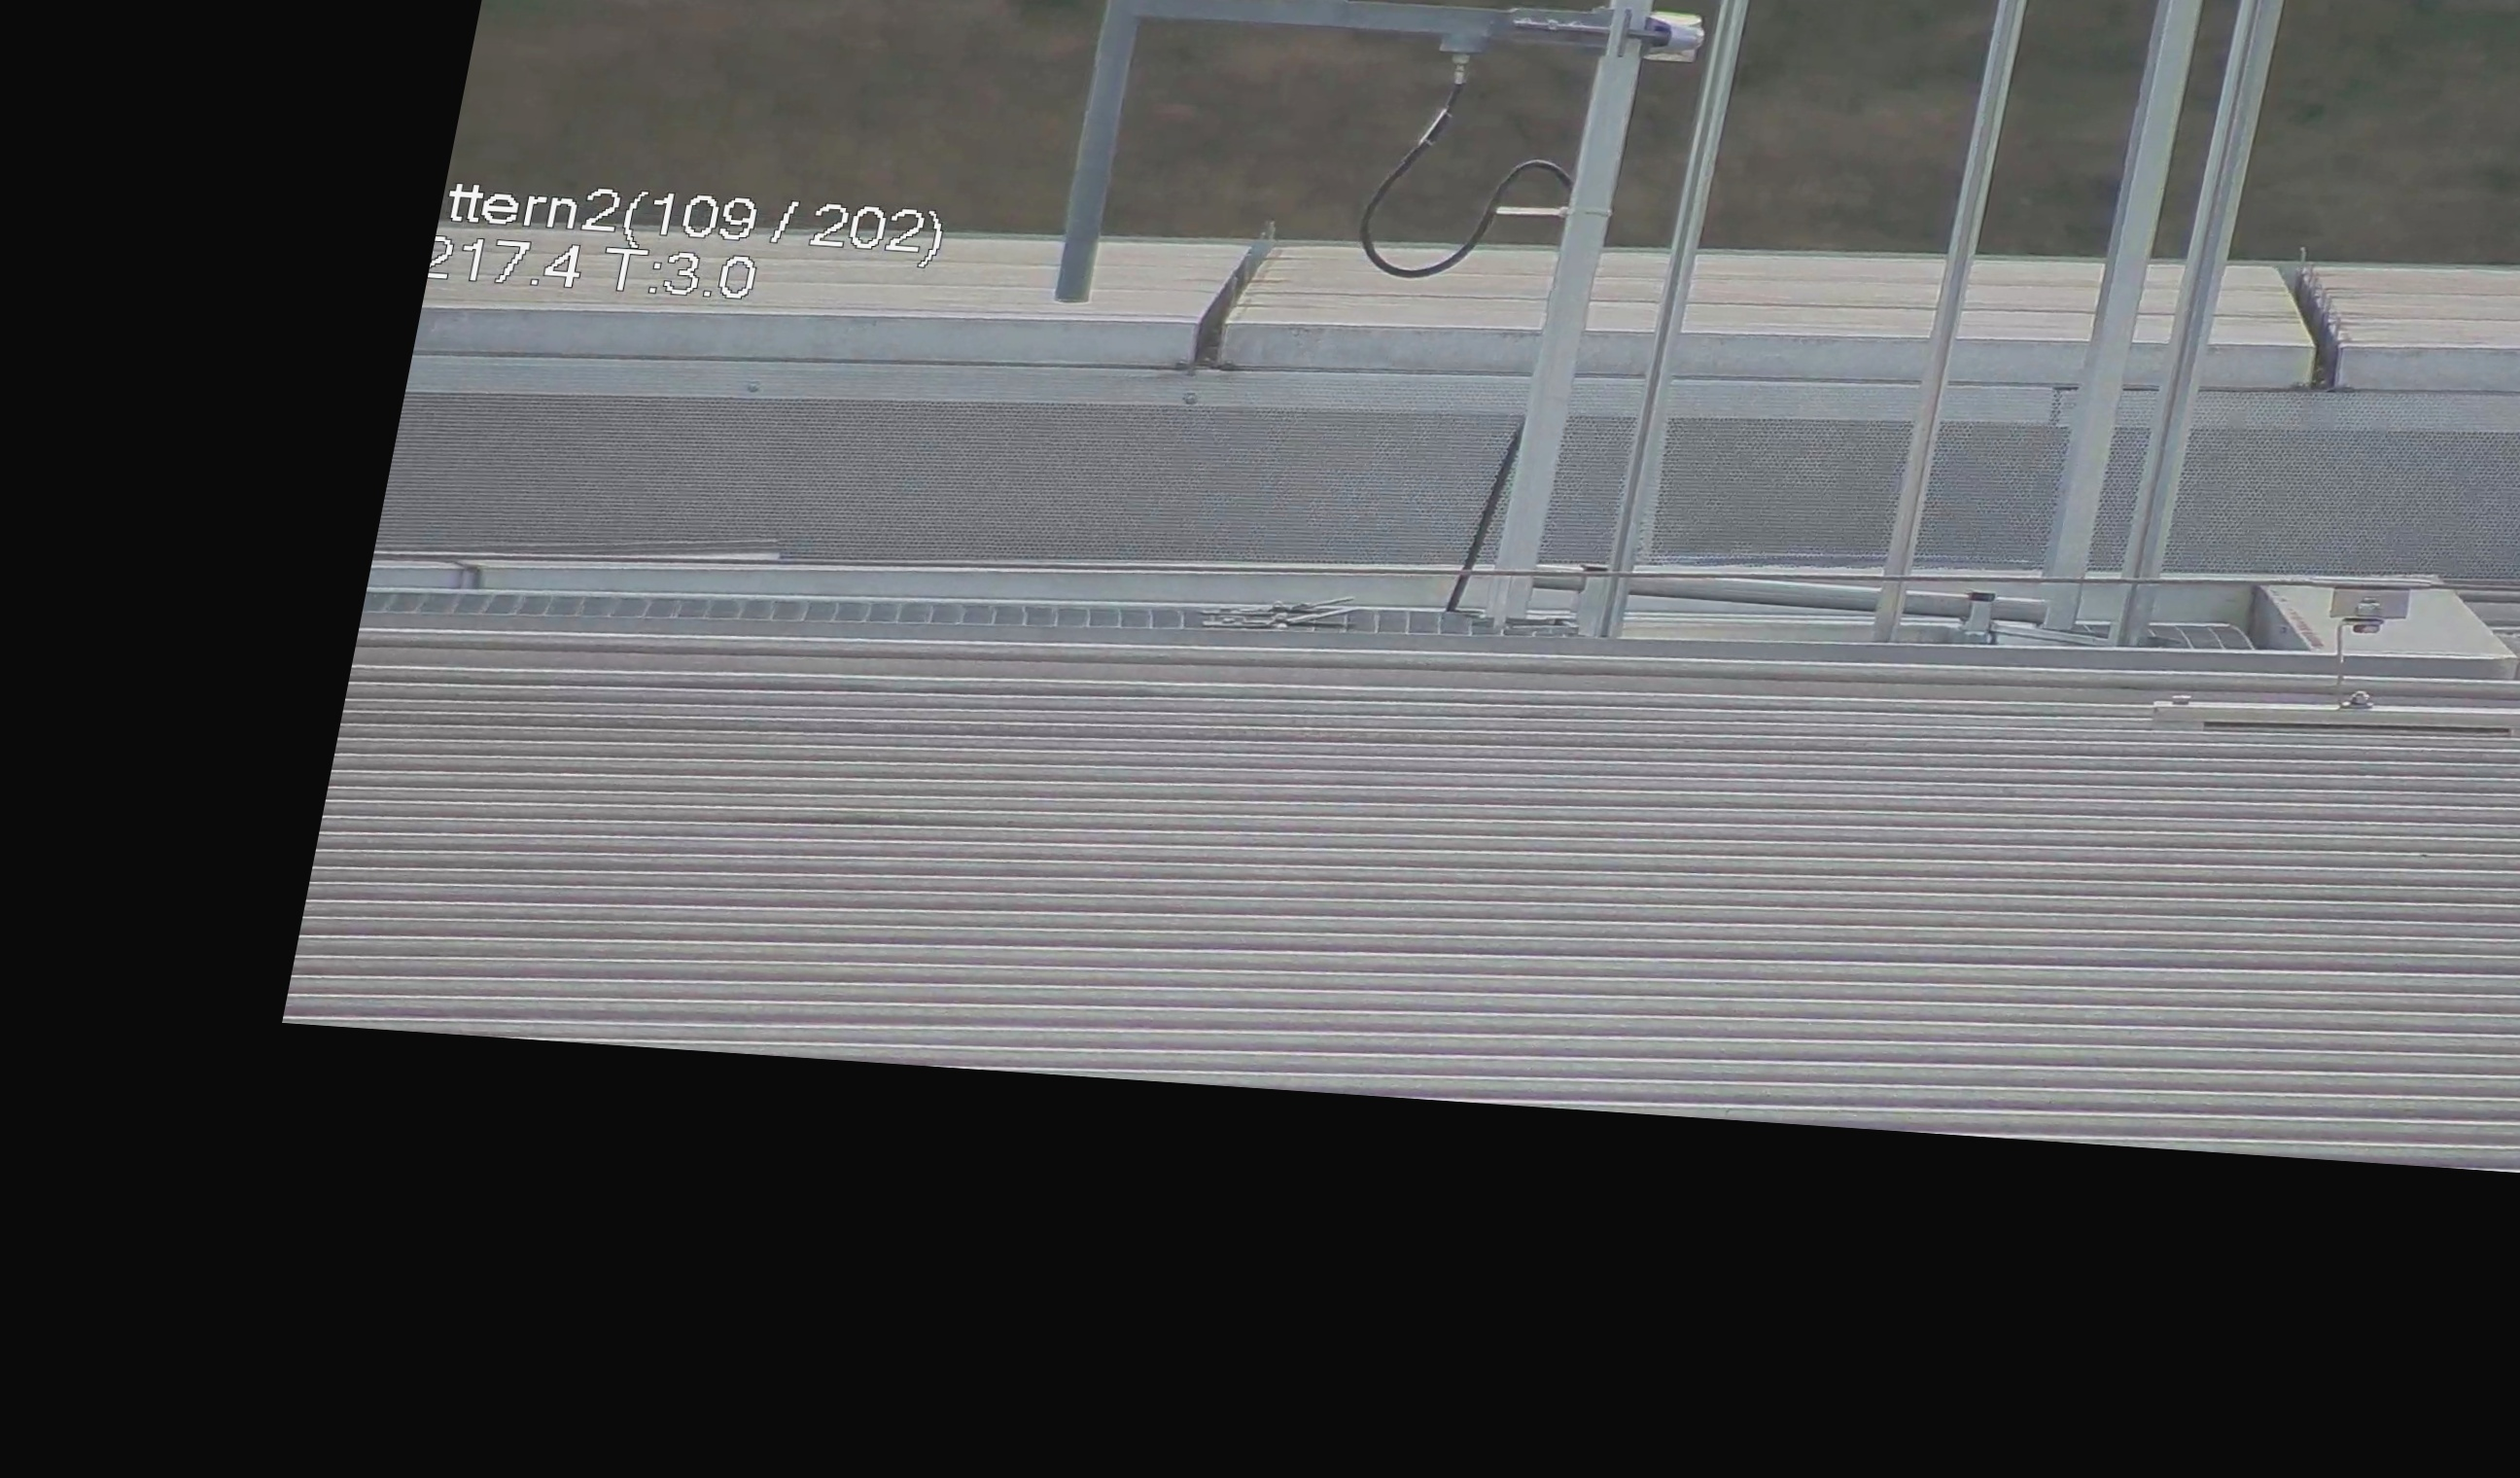Other: (2246, 241, 2392, 394)
